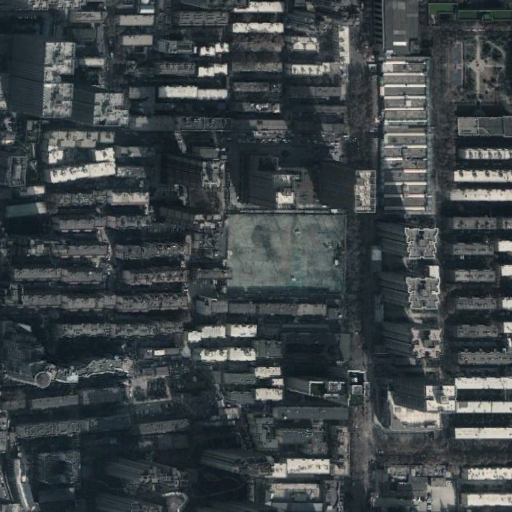cw: (218, 212, 348, 300)
